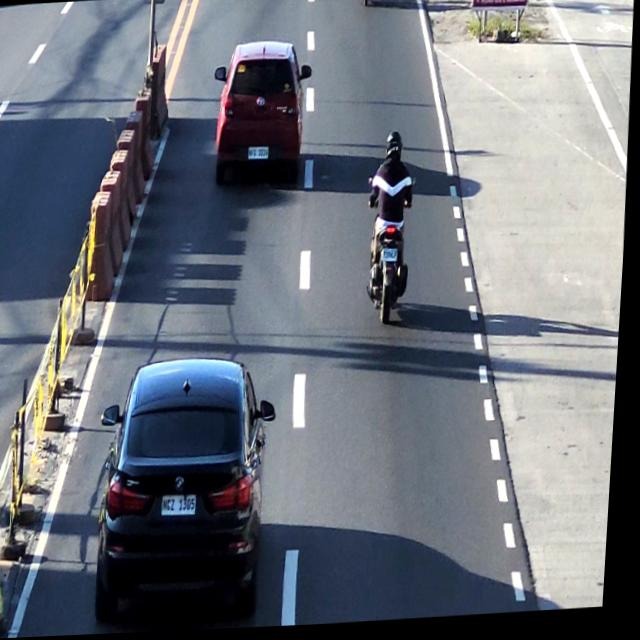Car: (101, 362, 272, 621), (215, 43, 308, 180)
License-Plate: (165, 490, 203, 521), (382, 247, 403, 269), (250, 145, 271, 165)
Motorcycle: (370, 132, 417, 326)
